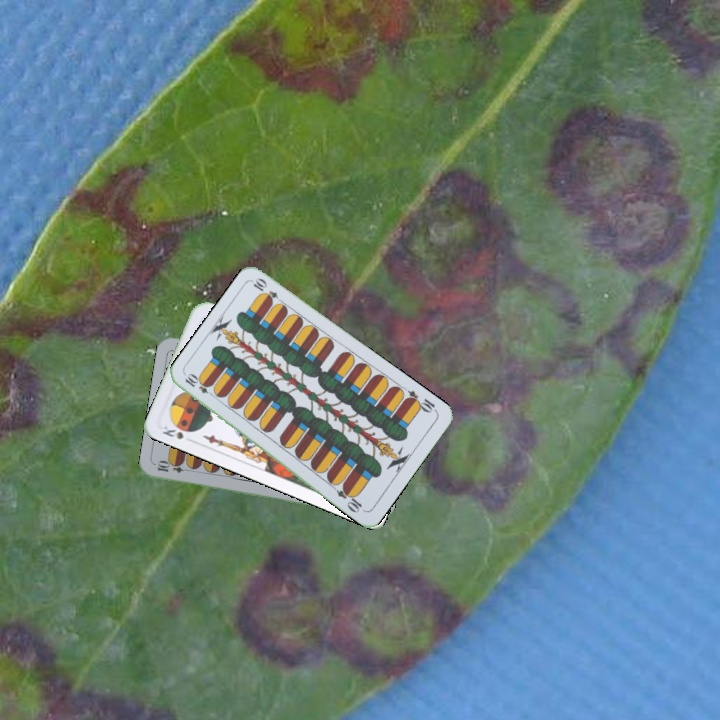E10: (401, 386, 440, 416), (181, 370, 218, 400), (153, 459, 194, 476)
SK: (158, 421, 196, 442)
